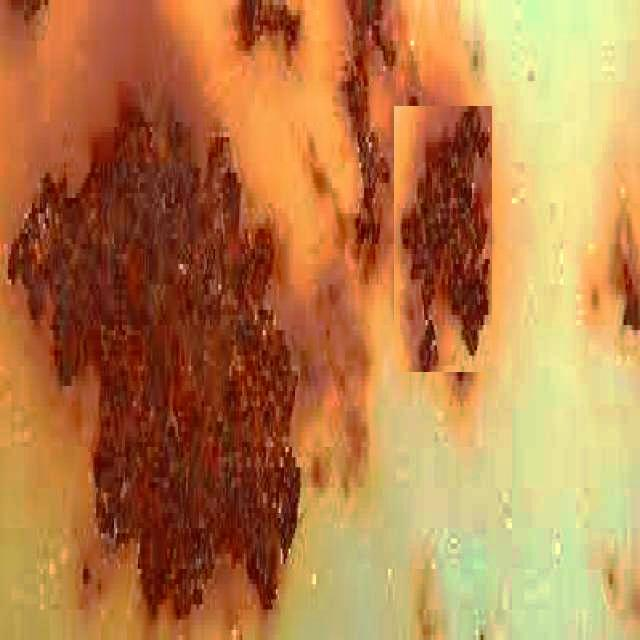Corrosion: (9, 122, 299, 616), (345, 0, 421, 280), (412, 109, 493, 356), (617, 163, 640, 330), (357, 132, 388, 246), (240, 0, 301, 52), (10, 0, 48, 38), (239, 0, 262, 48)
